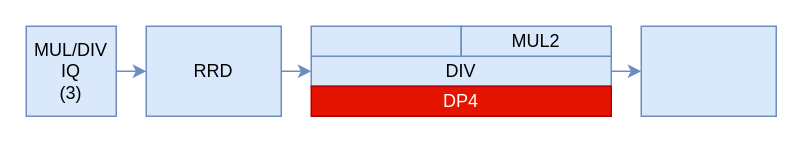
The diagram is 803 pixels wide and 143 high, and some of its shapes have lost their labels. Each missing label, with the box of its shape:
MUL1: (310, 25, 461, 56)
WB: (640, 25, 776, 116)
